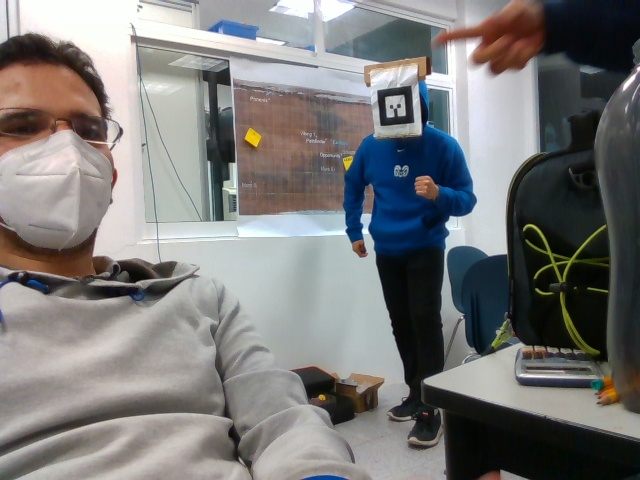ar1: (375, 87, 416, 127)
